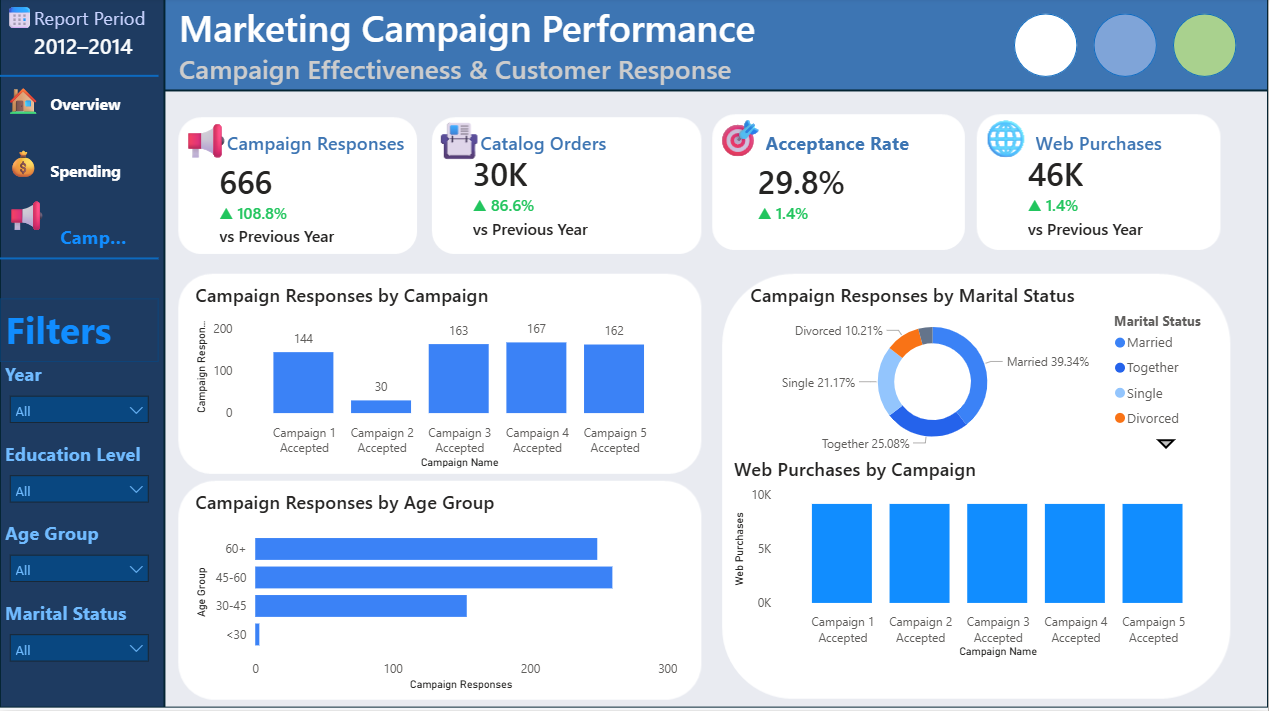

The dashboard page shown, as its layout file describes it:
{"tool":"powerbi","page":{"name":"Campaigns","canvas":[1280,720],"ordinal":2},"visuals":[{"type":"clusteredColumnChart","title":"Web Purchases by Campaign","fields":{"Category":["cleaned_marketing_campaign.Campaign Name"],"Y":["Calendar.Web Purchases"]},"box":[736,464,496,208],"z":0},{"type":"clusteredBarChart","fields":{"Category":["cleaned_marketing_campaign.Age Group"],"Y":["Calendar.Campaign Responses"]},"box":[192,496,496,208],"z":1000},{"type":"clusteredColumnChart","title":"Campaign Responses by Campaign","fields":{"Category":["cleaned_marketing_campaign.Campaign Name"],"Y":["Calendar.Campaign Responses"]},"box":[192,288,496,192],"z":2000},{"type":"cardVisual","fields":{"Data":["Calendar.Acceptance Rate"]},"box":[736,144,224,80],"z":3000},{"type":"cardVisual","fields":{"Data":["Calendar.Web Purchases"]},"box":[1008,144,192,64],"z":4000},{"type":"textbox","box":[224,128,208,48],"z":5000},{"type":"textbox","box":[480,128,224,64],"z":6000},{"type":"textbox","box":[768,128,208,48],"z":7000},{"type":"textbox","box":[1040,128,160,64],"z":8000},{"type":"pageNavigator","box":[32,64,128,224],"z":9000},{"type":"textbox","box":[0,80,80,48],"z":10000},{"type":"textbox","box":[0,144,64,48],"z":11000},{"type":"textbox","box":[0,192,48,64],"z":12000},{"type":"shape","box":[0,256,160,16],"z":13000},{"type":"shape","box":[0,64,160,32],"z":14000},{"type":"slicer","title":"Year","fields":{"Values":["Calendar.Year"]},"box":[0,368,160,80],"z":15000},{"type":"slicer","title":"Education Level","fields":{"Values":["cleaned_marketing_campaign.Education Level"]},"box":[0,448,160,80],"z":16000},{"type":"slicer","title":"Age Group","fields":{"Values":["cleaned_marketing_campaign.Age Group"]},"box":[0,528,160,80],"z":17000},{"type":"slicer","title":"Marital Status","fields":{"Values":["cleaned_marketing_campaign.Marital Status"]},"box":[0,608,160,64],"z":18000},{"type":"textbox","box":[0,304,160,64],"z":19000},{"type":"textbox","box":[176,0,688,64],"z":20000},{"type":"textbox","box":[0,0,160.5,80.3],"z":21000},{"type":"shape","box":[1024,16,64,64],"z":22000},{"type":"shape","box":[1104,16,64,64],"z":23000},{"type":"shape","box":[1184,16,64,64],"z":24000},{"type":"textbox","box":[176,48,608,80],"z":25000},{"type":"donutChart","fields":{"Category":["cleaned_marketing_campaign.Marital Status"],"Y":["Calendar.Campaign Responses"]},"box":[752,288,480,176],"z":26000},{"type":"cardVisual","fields":{"Data":["Calendar.Campaign Responses"]},"box":[192,144,192,80],"z":27000},{"type":"cardVisual","fields":{"Data":["Calendar.Campaign Response Growth Label"]},"box":[192,176,208,80],"z":28000},{"type":"cardVisual","fields":{"Data":["Calendar.Customer Growth Text"]},"box":[192,208,240,64],"z":29000},{"type":"cardVisual","fields":{"Data":["Calendar.Customer Growth Text"]},"box":[448,192,224,80],"z":30000},{"type":"cardVisual","fields":{"Data":["Calendar.Acceptance Rate Growth Label"]},"box":[736,176,208,80],"z":31000},{"type":"cardVisual","fields":{"Data":["Calendar.Customer Growth Text"]},"box":[1008,192,240,80],"z":32000},{"type":"cardVisual","fields":{"Data":["Calendar.Acceptance Rate Growth Label"]},"box":[1008,176,192,64],"z":33000},{"type":"cardVisual","fields":{"Data":["Calendar.Catalog Purchases"]},"box":[448,144,256,64],"z":34000},{"type":"cardVisual","fields":{"Data":["Calendar.Catalog Purchases Growth Label"]},"box":[448,176,208,64],"z":35000}]}

Visuals, with their boxes on the page's 1280x720 design canvas (x1, y1, x2, y2). These are canvas units, not pixel positions in the 1270x711 screenshot, which may show the page scaled, cropped or inside an application window:
"Web Purchases by Campaign" clusteredColumnChart: (736,464,1232,672)
clusteredBarChart - cleaned_marketing_campaign.Age Group x Calendar.Campaign Responses: (192,496,688,704)
"Campaign Responses by Campaign" clusteredColumnChart: (192,288,688,480)
cardVisual - Calendar.Acceptance Rate: (736,144,960,224)
cardVisual - Calendar.Web Purchases: (1008,144,1200,208)
textbox: (224,128,432,176)
textbox: (480,128,704,192)
textbox: (768,128,976,176)
textbox: (1040,128,1200,192)
pageNavigator: (32,64,160,288)
textbox: (0,80,80,128)
textbox: (0,144,64,192)
textbox: (0,192,48,256)
shape: (0,256,160,272)
shape: (0,64,160,96)
"Year" slicer: (0,368,160,448)
"Education Level" slicer: (0,448,160,528)
"Age Group" slicer: (0,528,160,608)
"Marital Status" slicer: (0,608,160,672)
textbox: (0,304,160,368)
textbox: (176,0,864,64)
textbox: (0,0,160,80)
shape: (1024,16,1088,80)
shape: (1104,16,1168,80)
shape: (1184,16,1248,80)
textbox: (176,48,784,128)
donutChart - cleaned_marketing_campaign.Marital Status x Calendar.Campaign Responses: (752,288,1232,464)
cardVisual - Calendar.Campaign Responses: (192,144,384,224)
cardVisual - Calendar.Campaign Response Growth Label: (192,176,400,256)
cardVisual - Calendar.Customer Growth Text: (192,208,432,272)
cardVisual - Calendar.Customer Growth Text: (448,192,672,272)
cardVisual - Calendar.Acceptance Rate Growth Label: (736,176,944,256)
cardVisual - Calendar.Customer Growth Text: (1008,192,1248,272)
cardVisual - Calendar.Acceptance Rate Growth Label: (1008,176,1200,240)
cardVisual - Calendar.Catalog Purchases: (448,144,704,208)
cardVisual - Calendar.Catalog Purchases Growth Label: (448,176,656,240)
